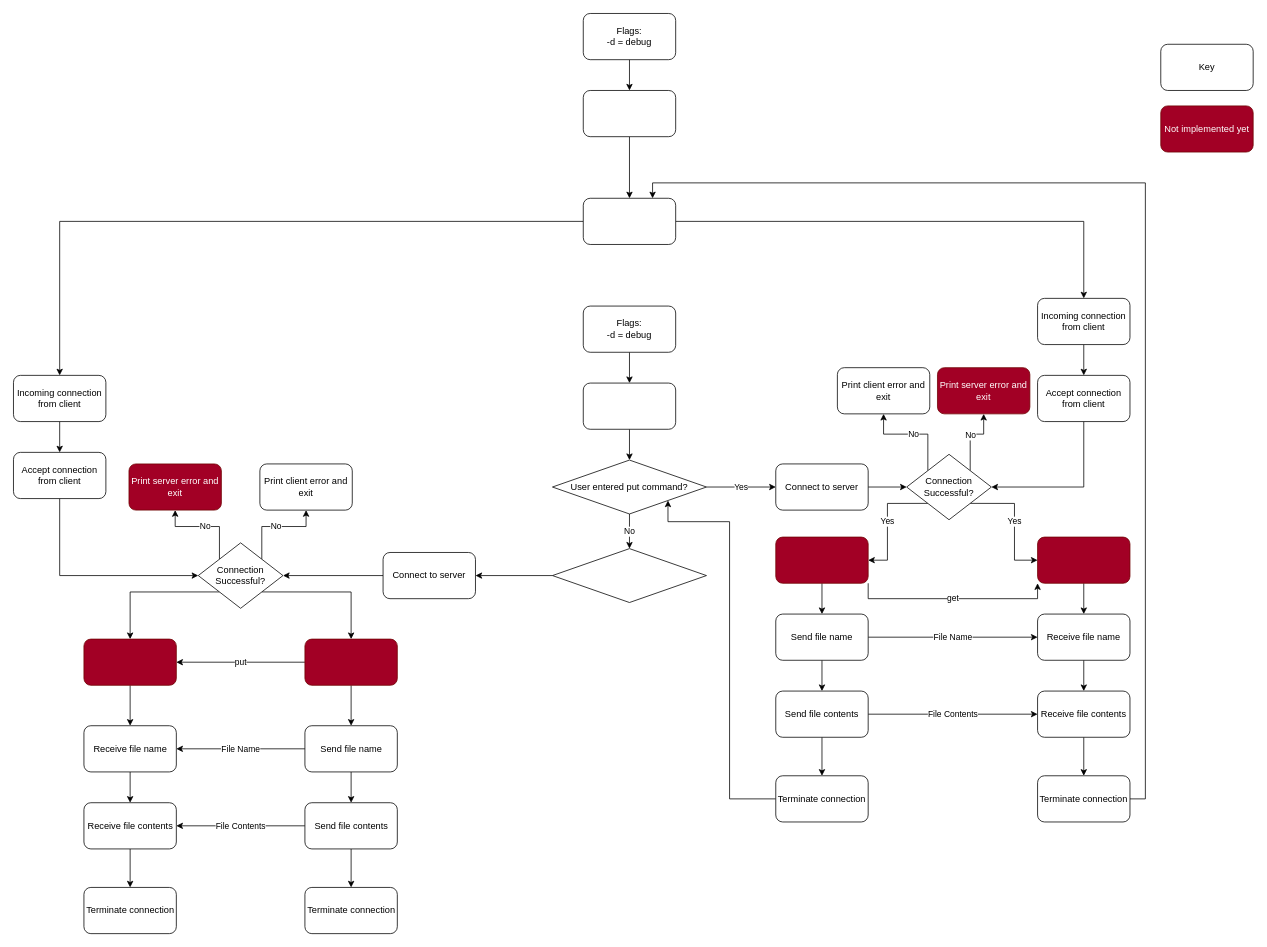
The diagram is 1267 pixels wide and 947 high, and some of its shapes have lost their labels. The centre of each missing label's shape, as x and y in pixels:
Listen: [629,221]
Receive get command: [1083,559]
Receive put command: [129,661]
Run client using ./client: [629,405]
Run server using ./server: [629,113]
Send get command: [821,559]
Send put command: [350,661]
User entered get command?: [629,575]
